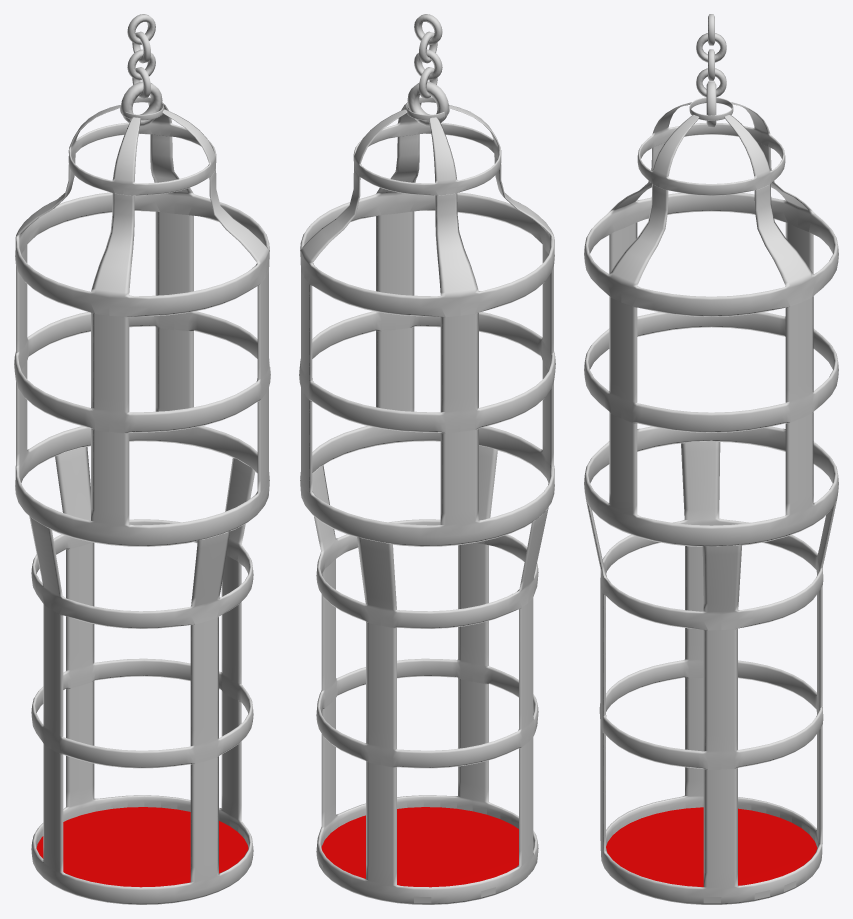
File: JK_IronCage.fbx
The picture shows the model from 3 angles, left to right: view 1: azimuth 30°, elevation 25°; view 2: azimuth 150°, elevation 25°; view 3: azimuth 270°, elevation 25°; orthographic projection.
Parts seen in each view (by area): view 1: pTorus6, pCylinder11; view 2: pTorus6, pCylinder11; view 3: pTorus6, pCylinder11.
Part boxes in pixels (x1,y1,x2,y2): pTorus6: [14, 14, 270, 904]; pCylinder11: [36, 807, 248, 887]; pTorus6: [299, 14, 555, 904]; pCylinder11: [321, 807, 518, 887]; pTorus6: [584, 14, 838, 904]; pCylinder11: [606, 807, 817, 887].
Bounding box in the file's own units: 58.61 × 214 × 58.61.
